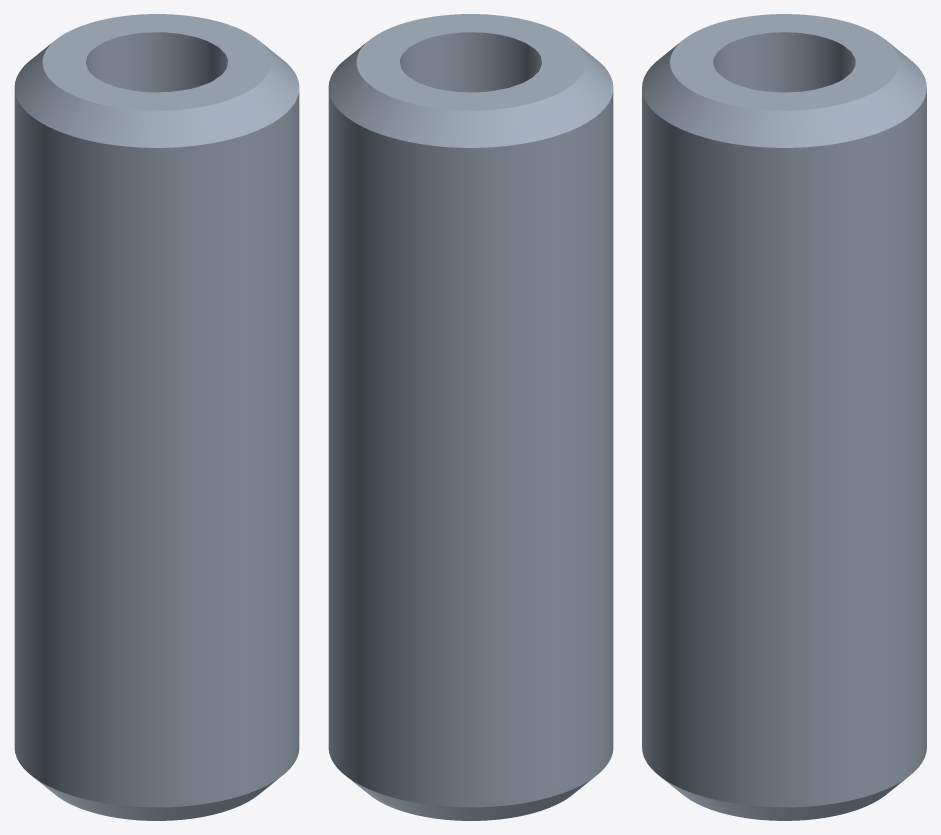
The model's file is piston_pin.obj.
3 views of the same model, side by side, from view 1: azimuth 30°, elevation 25°; view 2: azimuth 150°, elevation 25°; view 3: azimuth 270°, elevation 25° (orthographic).
Visible parts, largest first — view 1: 1; view 2: 1; view 3: 1.
Boxes of the visible parts, bbox=[...] form: 1: bbox=[14, 14, 299, 820]; 1: bbox=[328, 14, 613, 820]; 1: bbox=[642, 14, 926, 820].
Bounding box in the file's own units: 25.4 × 69.85 × 25.4.
